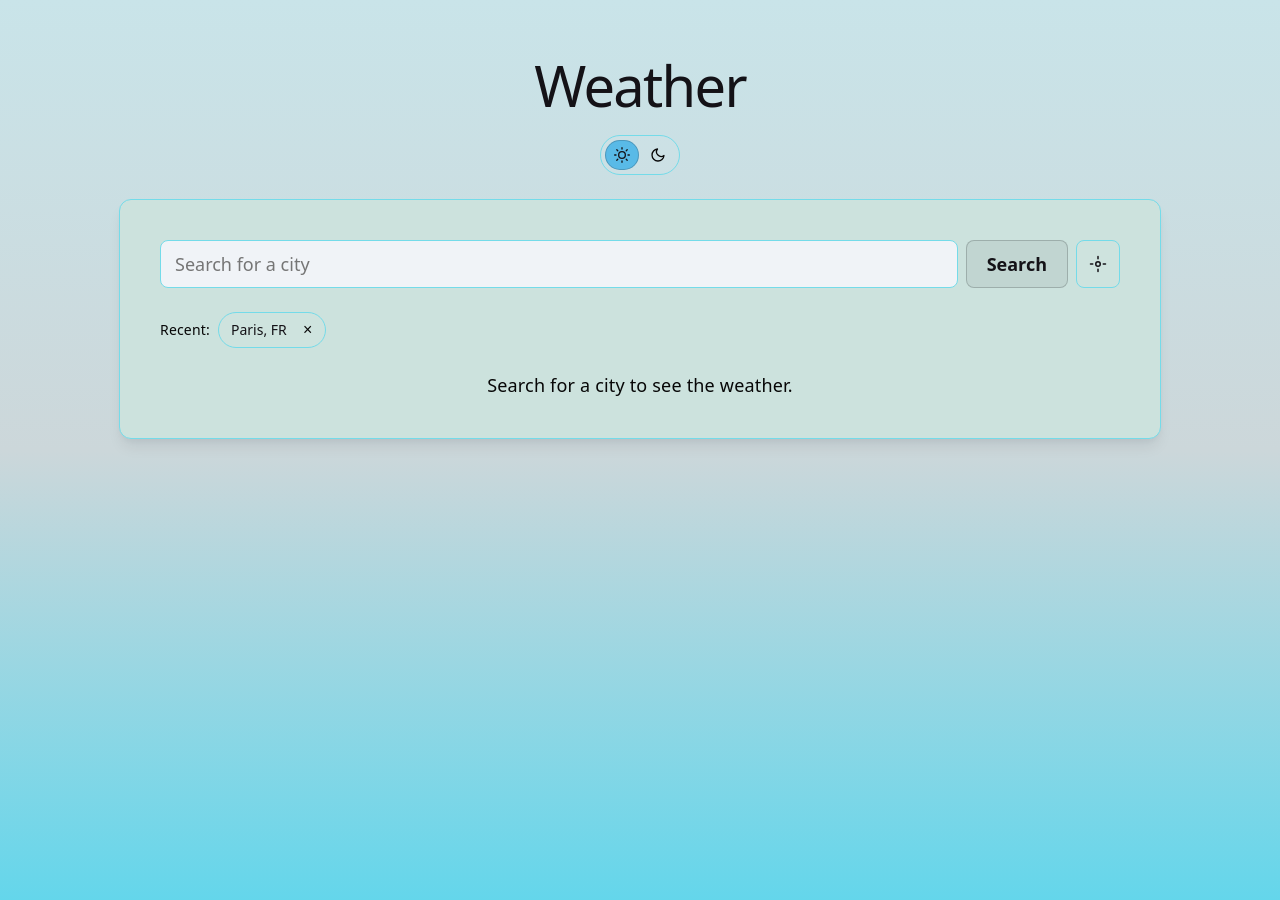
Test: App loading and error screens › restores recent searches on mount and reloads when a chip is clicked
Click the button "Paris, FR".
click(257, 330)  # box [219, 313, 295, 347]
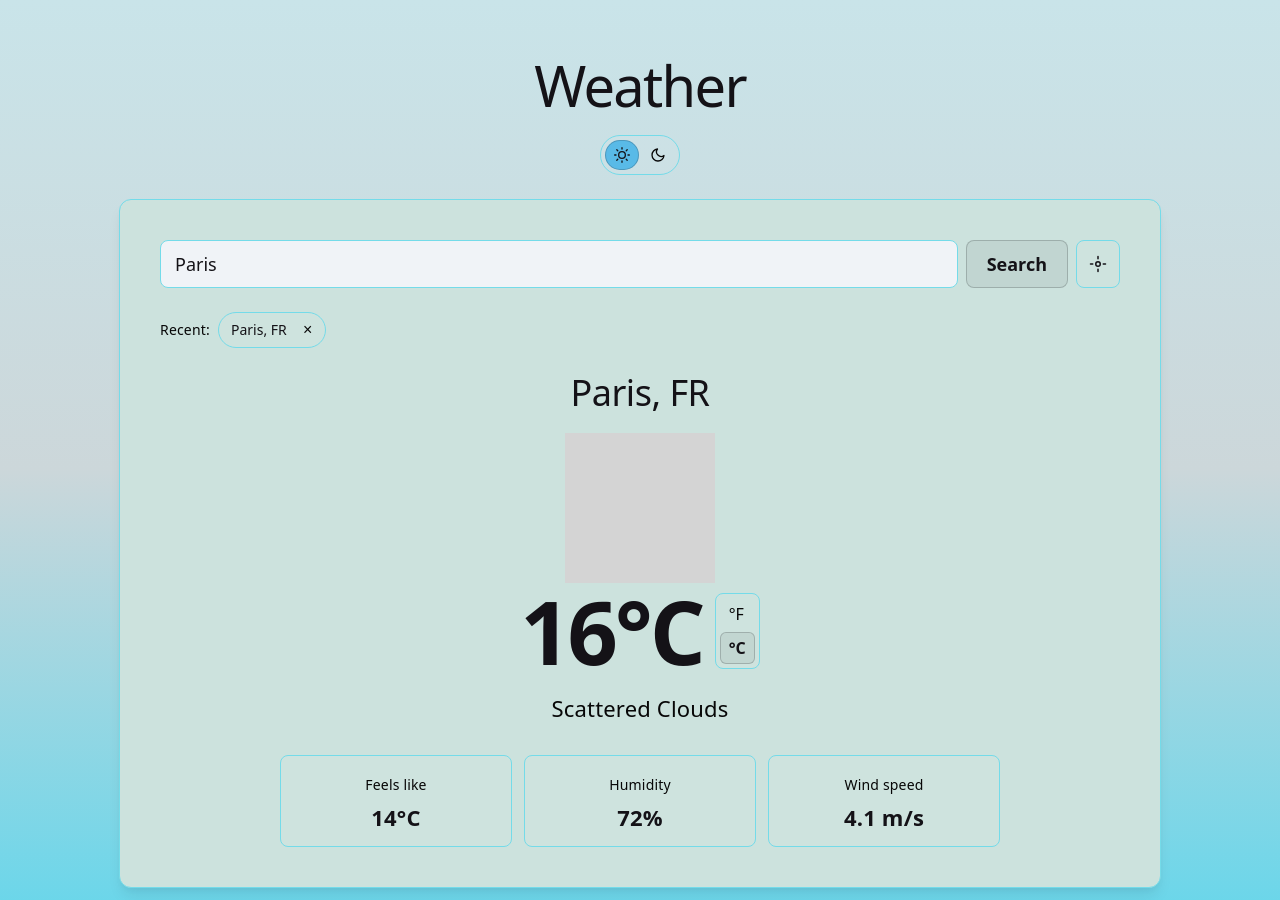
Now the heading "Paris, FR" is shown, box [570, 372, 710, 415]
